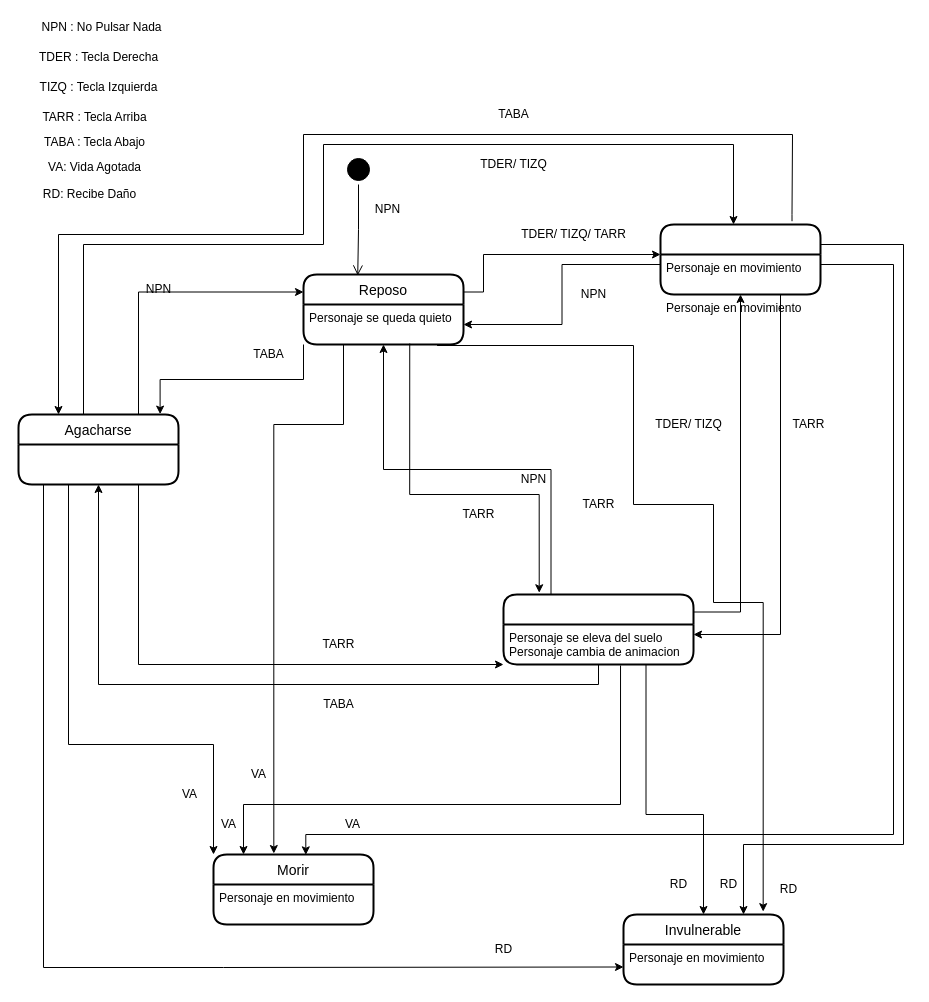
This 929x1002 diagram has some shape labels left out. The shapes that lost their labels are listed below. From the top down, each one's box as (x1, y1, x2, y2) in pixels, then its label:
(659, 223, 821, 295): Moverse
(502, 593, 694, 665): Saltar
